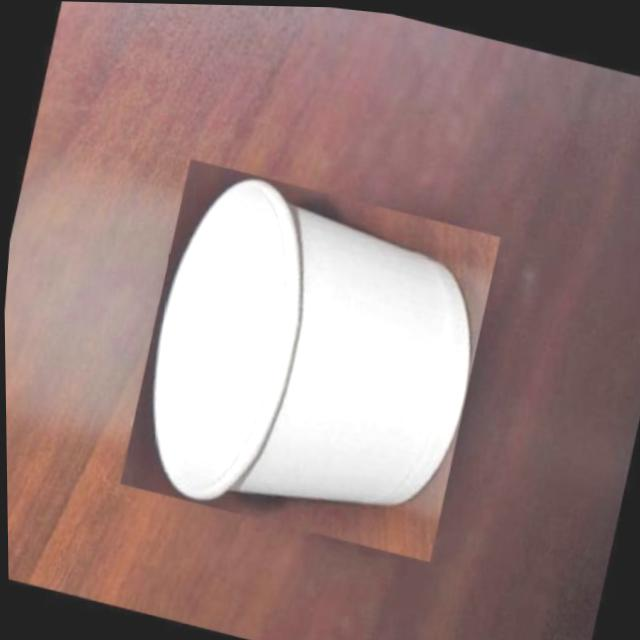Cup: (111, 151, 507, 564)
